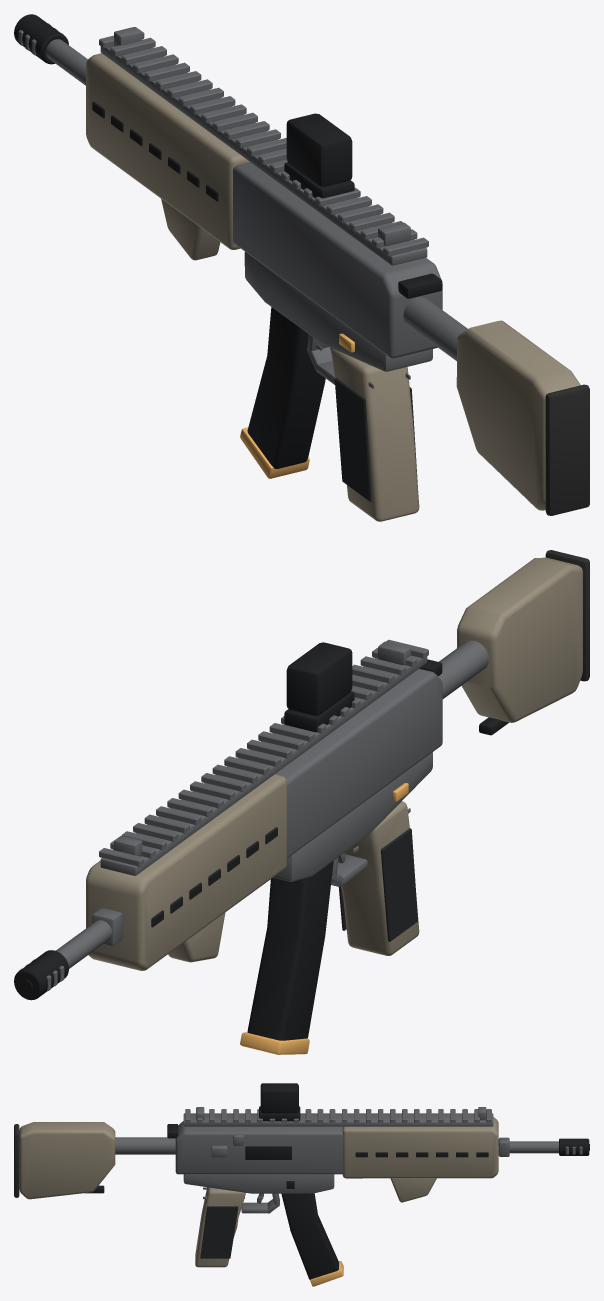
The model's file is AssaultRifle.fbx.
3 views of the same model, one above another, from view 1: azimuth 30°, elevation 25°; view 2: azimuth 150°, elevation 25°; view 3: azimuth 270°, elevation 25° (orthographic). The views are drawn at different scales.
Visible parts, largest first — view 1: Upper Receiver, Handguard, Stock, Pistol Grip, Magazine, Butt Pad, Lower Receiver, Holo Sight Hood, Top Rail Base, Grip Texture Panel -1, Buffer Tube, Angled Foregrip (+5 smaller); view 2: Handguard, Stock, Upper Receiver, Magazine, Pistol Grip, Lower Receiver, Holo Sight Hood, Top Rail Base, Grip Texture Panel -1, Buffer Tube, Muzzle Brake, Angled Foregrip (+5 smaller); view 3: Handguard, Upper Receiver, Stock, Top Rail Base, Magazine, Lower Receiver, Grip Texture Panel 1, Pistol Grip, Holo Sight Hood, Buffer Tube, Angled Foregrip, Ejection Port Cover (+6 smaller).
Boxes of the visible parts, x1,y1,x2,y2 form: Upper Receiver: (233, 162, 442, 358); Handguard: (86, 53, 249, 249); Stock: (456, 320, 580, 510); Pistol Grip: (331, 348, 419, 521); Magazine: (247, 307, 325, 468); Butt Pad: (545, 384, 589, 515); Lower Receiver: (244, 252, 432, 371); Holo Sight Hood: (286, 113, 352, 186); Top Rail Base: (100, 46, 427, 265); Grip Texture Panel -1: (334, 378, 371, 501); Buffer Tube: (403, 297, 467, 360); Angled Foregrip: (161, 199, 220, 260); Handguard: (86, 774, 286, 970); Stock: (457, 557, 582, 722); Upper Receiver: (275, 668, 442, 858); Magazine: (247, 861, 333, 1040); Pistol Grip: (341, 801, 419, 955); Lower Receiver: (273, 752, 432, 881); Holo Sight Hood: (286, 642, 352, 715); Top Rail Base: (100, 655, 427, 875); Grip Texture Panel -1: (380, 828, 417, 941); Buffer Tube: (438, 640, 488, 698); Muzzle Brake: (14, 950, 68, 1000); Angled Foregrip: (168, 913, 225, 962); Handguard: (342, 1117, 498, 1178); Upper Receiver: (175, 1121, 343, 1174); Stock: (19, 1122, 115, 1199); Top Rail Base: (183, 1113, 493, 1126); Magazine: (281, 1193, 338, 1279); Lower Receiver: (183, 1174, 334, 1193); Grip Texture Panel 1: (200, 1206, 238, 1258); Pistol Grip: (195, 1187, 245, 1267); Holo Sight Hood: (260, 1083, 298, 1113); Buffer Tube: (115, 1137, 175, 1154); Angled Foregrip: (390, 1178, 436, 1202); Ejection Port Cover: (245, 1146, 291, 1159).
Bounding box in the file's own units: 0.1495 × 0.7882 × 2.1.
